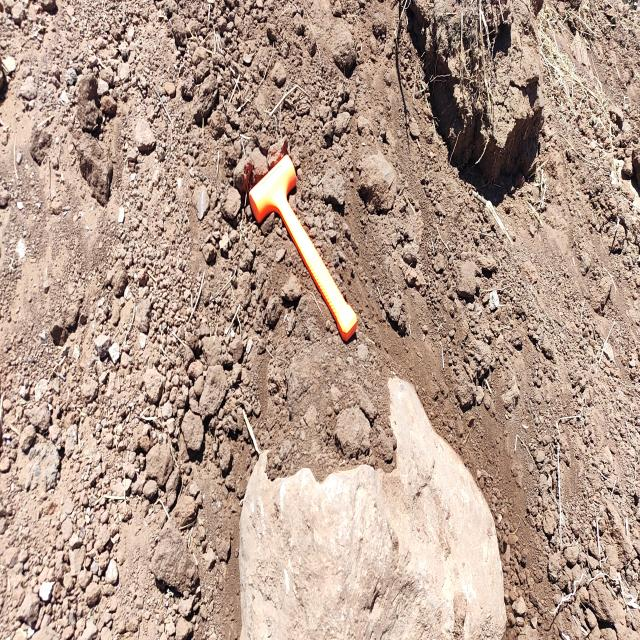Orange_hammer: (248, 150, 358, 344)
